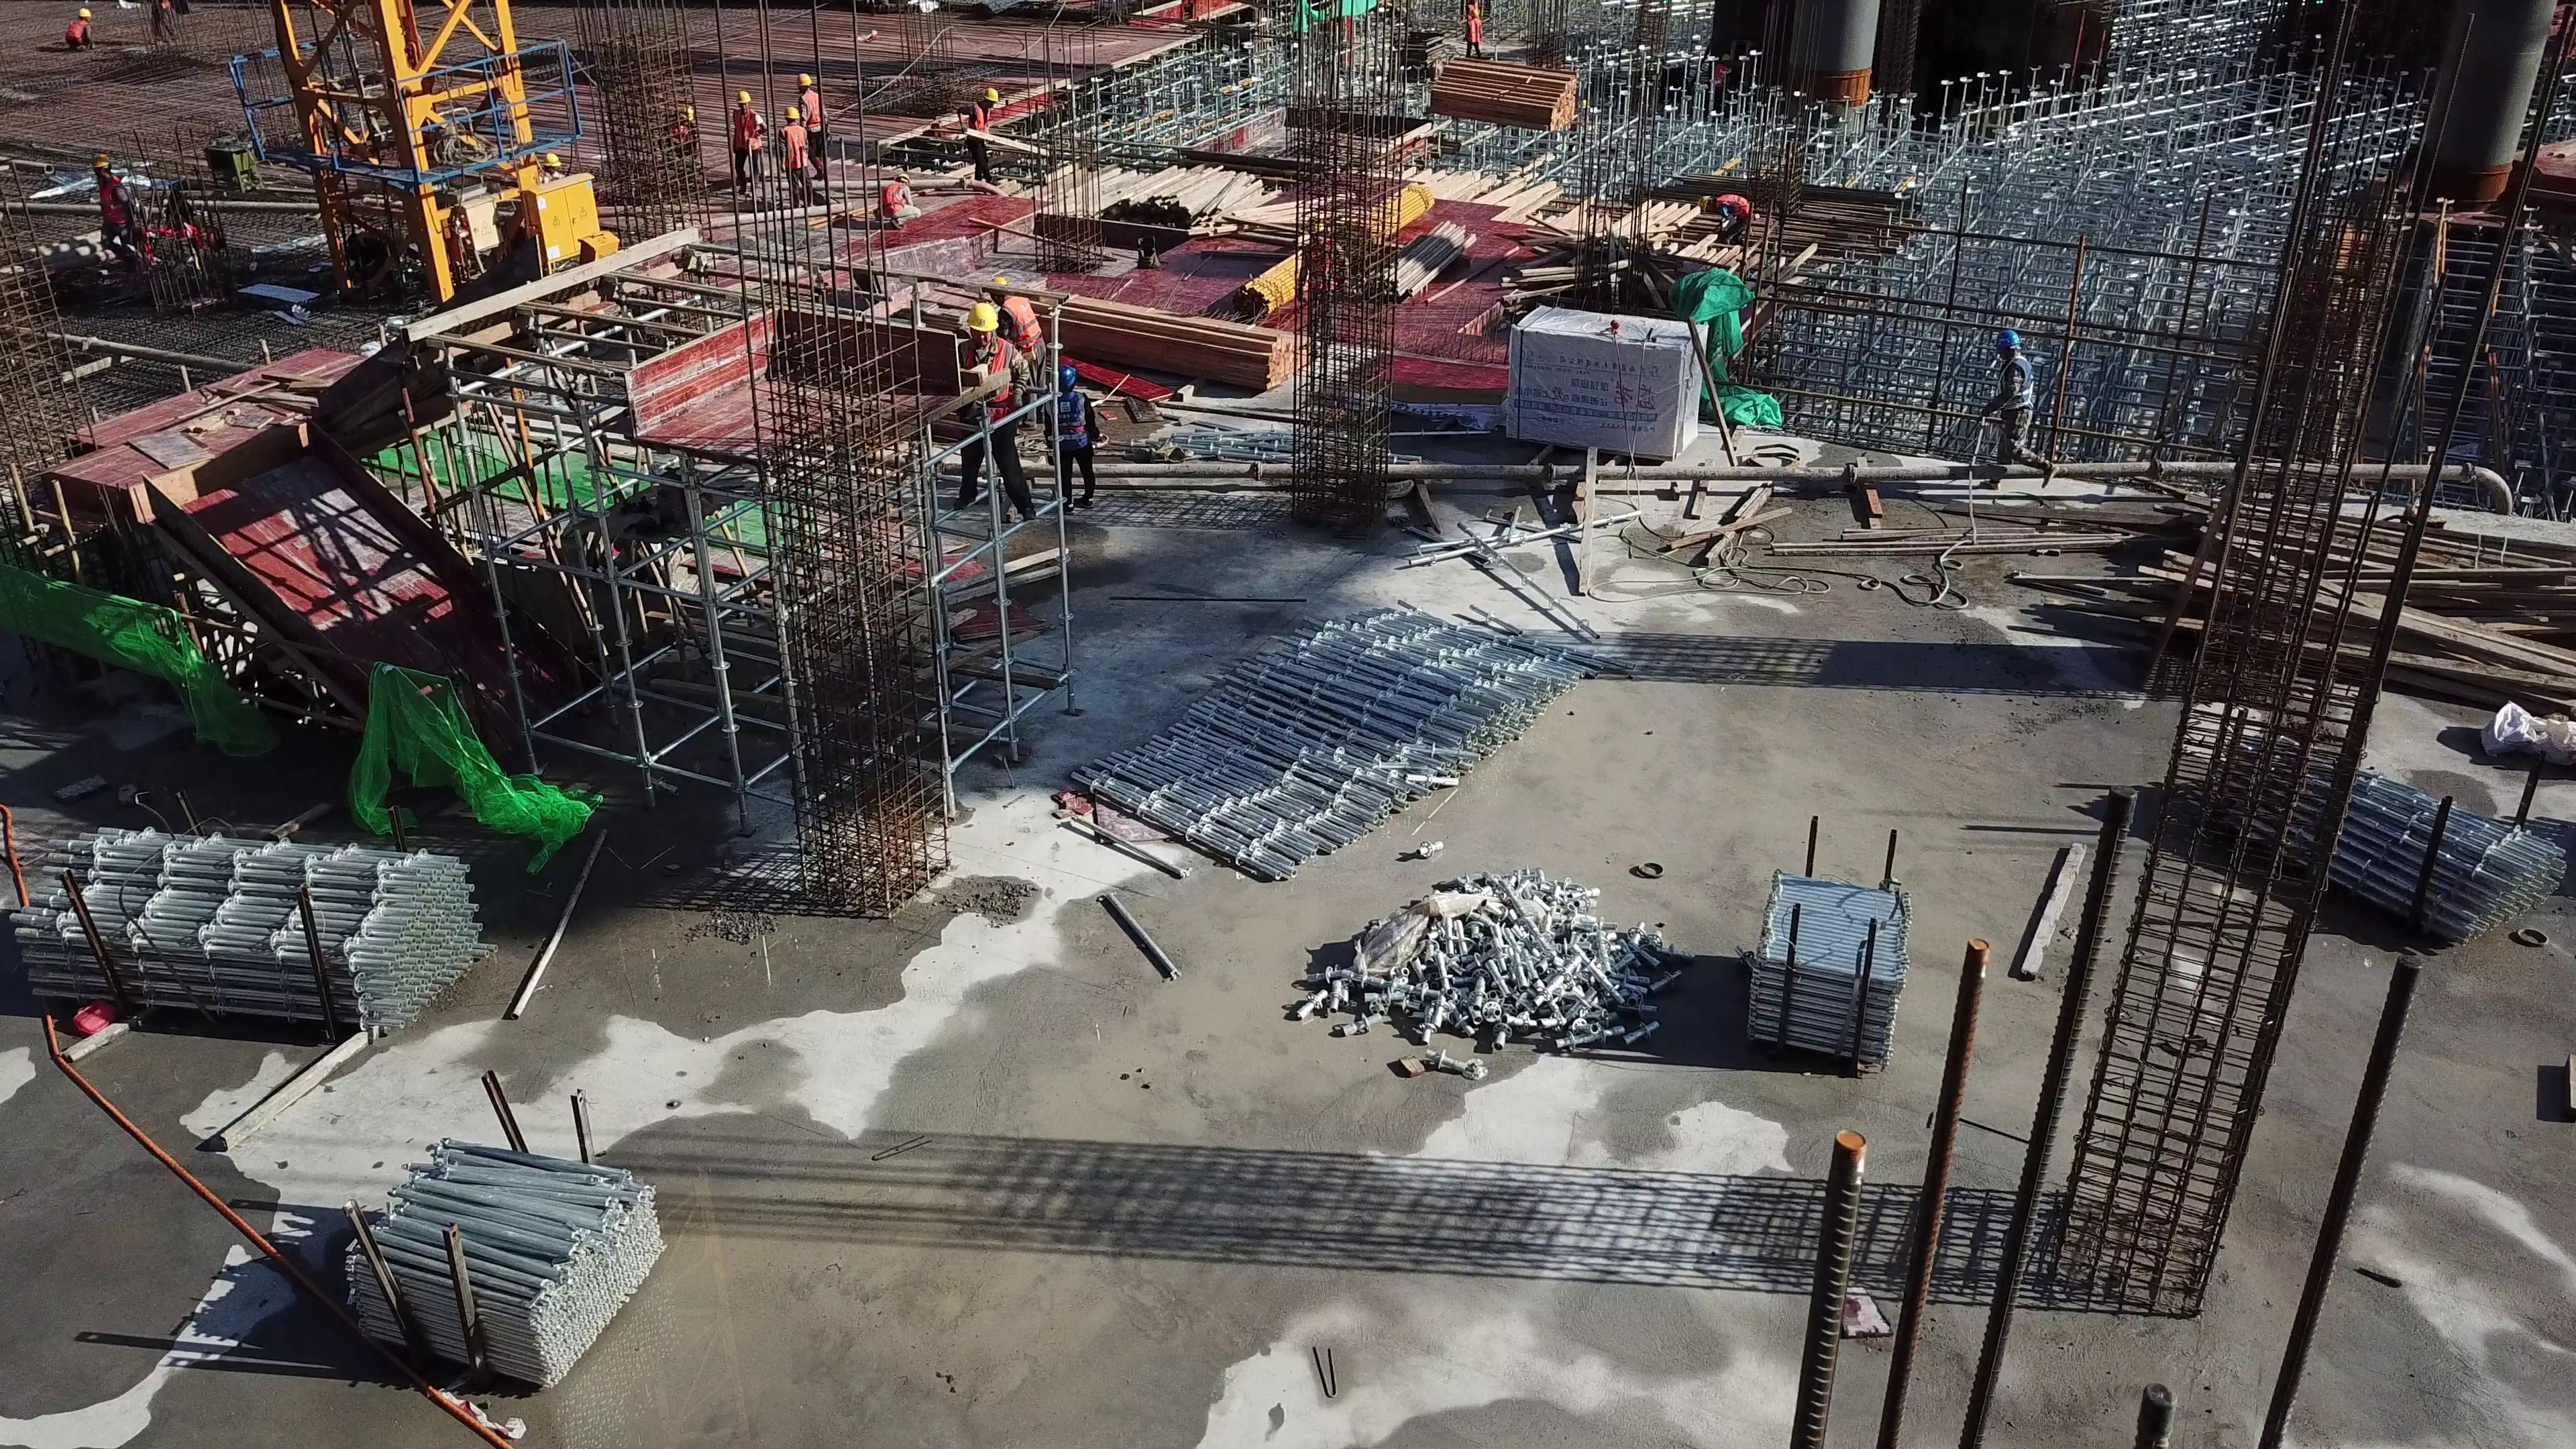board: (1348, 353, 1504, 412), (938, 268, 1032, 321)
ebox: (520, 171, 602, 262), (455, 205, 500, 266)
helmet: (969, 301, 999, 333), (1996, 326, 2025, 349), (1058, 365, 1075, 391), (782, 107, 801, 123), (543, 153, 559, 168), (78, 7, 94, 21), (737, 87, 750, 103), (800, 72, 812, 88), (985, 90, 998, 107), (1696, 193, 1710, 209), (93, 152, 106, 167), (896, 172, 912, 183)
person: (953, 302, 1034, 521), (1979, 330, 2059, 487), (991, 275, 1049, 434), (1044, 365, 1099, 510), (1299, 222, 1346, 358), (91, 152, 135, 269), (955, 89, 1003, 186), (731, 91, 764, 195), (778, 107, 812, 211), (798, 72, 830, 180), (872, 174, 920, 229), (1699, 193, 1752, 235), (659, 105, 700, 159), (149, 1, 176, 42), (66, 8, 92, 50), (1464, 11, 1482, 58), (540, 154, 563, 182), (1470, 1, 1480, 13)
scaffold: (1077, 604, 1649, 883), (12, 829, 482, 1025), (2209, 731, 2554, 965), (335, 1136, 651, 1380), (1748, 865, 1901, 1066)
vest: (964, 343, 1012, 417), (1997, 355, 2037, 409), (1053, 392, 1086, 450), (1005, 294, 1039, 347), (95, 176, 125, 226), (1306, 241, 1334, 288), (784, 125, 807, 172), (733, 108, 758, 149), (880, 183, 904, 214), (970, 102, 991, 132), (1715, 195, 1747, 215), (803, 91, 820, 127), (70, 20, 83, 38), (1470, 18, 1479, 42), (1716, 63, 1726, 82)
wood: (1059, 299, 1295, 393), (1430, 56, 1572, 127)
